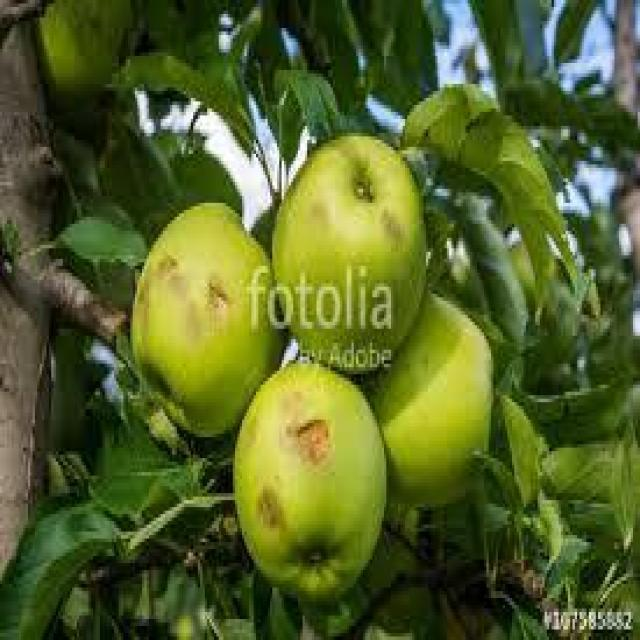Apple: (232, 357, 388, 598), (275, 130, 430, 360), (130, 200, 275, 435)
